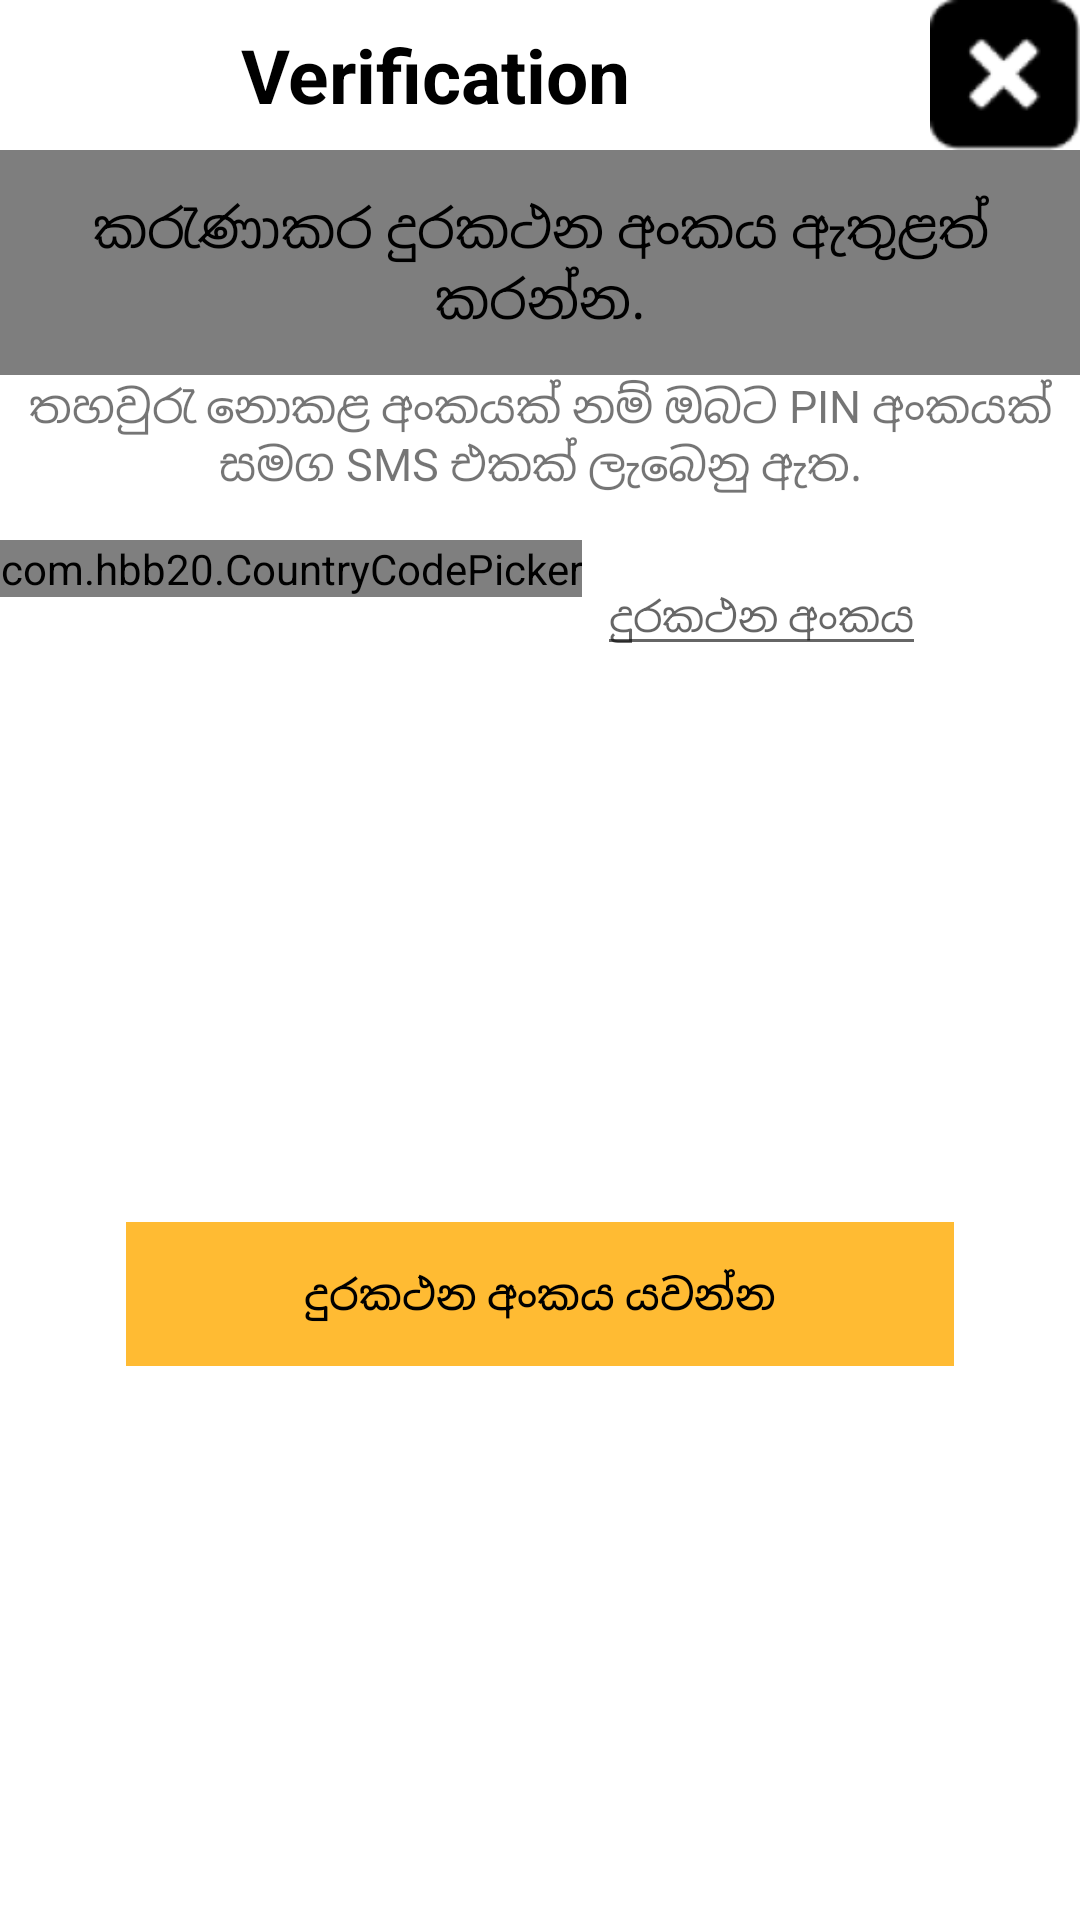

Named icons in this screenshot (1080w x 1920h) and their centers, (x,y):
close: (1005,75)
